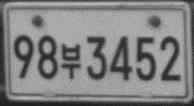2: (159, 35, 183, 83)
3: (85, 35, 108, 80)
4: (108, 35, 132, 82)
5: (135, 35, 157, 81)
8: (37, 34, 58, 79)
9: (13, 35, 34, 79)
부: (59, 42, 83, 80)
